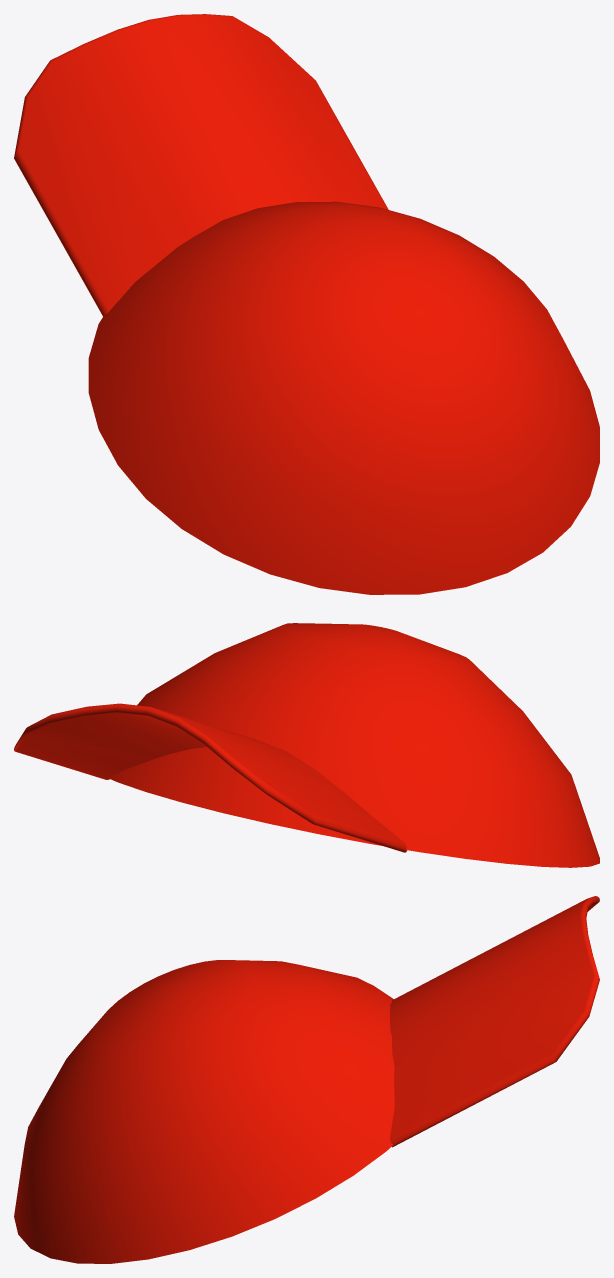
Rendered from Cap.fbx.
3 renders of one model, top to bottom at view 1: azimuth 30°, elevation 25°; view 2: azimuth 150°, elevation 25°; view 3: azimuth 270°, elevation 25°, orthographic. The views are drawn at different scales.
Parts seen in each view (by area): view 1: Plane; view 2: Plane; view 3: Plane.
Part boxes in pixels (x1,y1,x2,y2): Plane: (14,14,599,594); Plane: (14,623,599,867); Plane: (14,896,599,1263).
Bounding box in the file's own units: 162 × 115 × 202.
